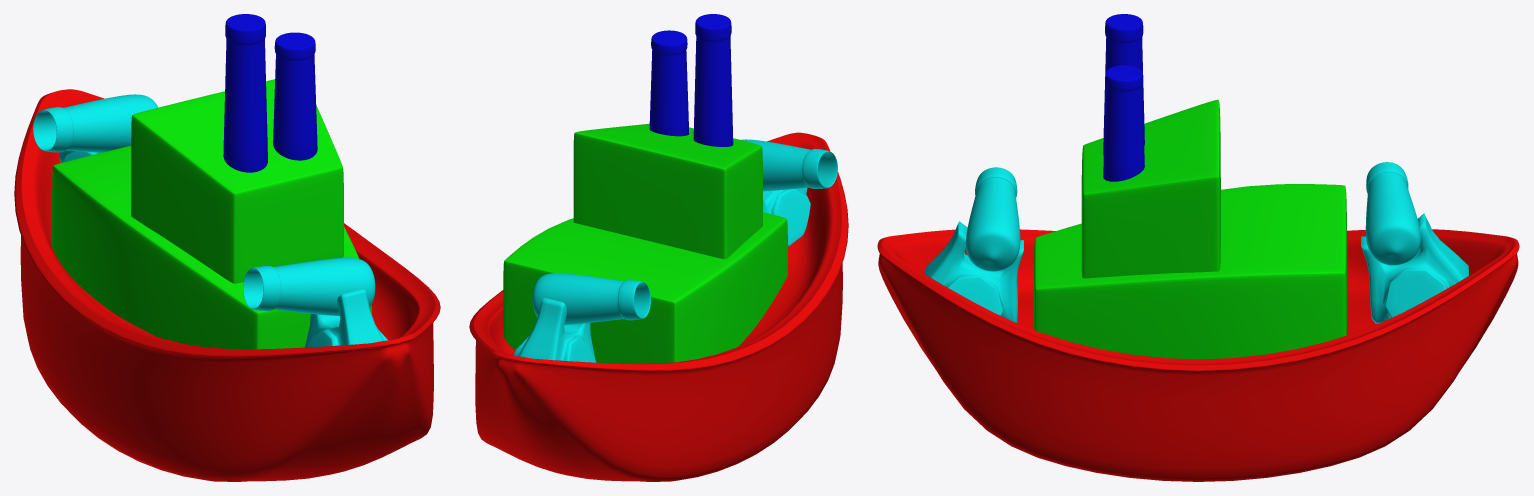
The model's file is NoGhostBoat.fbx.
3 renders of one model, left to right at view 1: azimuth 30°, elevation 25°; view 2: azimuth 150°, elevation 25°; view 3: azimuth 270°, elevation 25°, orthographic. The views are drawn at different scales.
Parts seen in each view (by area): view 1: NonGhostBoat:polySurface1; view 2: NonGhostBoat:polySurface1; view 3: NonGhostBoat:polySurface1.
Boxes of the visible parts, x1,y1,x2,y2 form: NonGhostBoat:polySurface1: [14, 14, 440, 481]; NonGhostBoat:polySurface1: [469, 14, 848, 481]; NonGhostBoat:polySurface1: [877, 14, 1519, 481].
Size of the model in its own units: 2.22 by 3.19 by 4.53.
